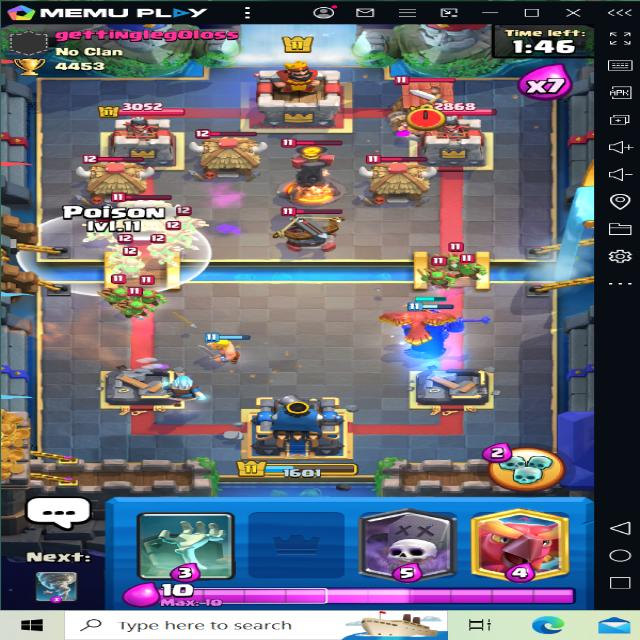Barbarianhut: (386, 73, 464, 124)
Goblinhut: (102, 188, 185, 240), (187, 126, 266, 178), (363, 152, 434, 204), (80, 155, 156, 201)
Infernotower: (278, 136, 342, 201)
Speargoblin: (427, 296, 464, 332), (115, 299, 153, 321), (102, 278, 136, 302), (438, 244, 468, 269), (171, 208, 205, 230), (457, 252, 483, 280), (118, 252, 148, 275), (132, 288, 170, 306), (142, 240, 170, 264), (420, 268, 448, 291), (163, 230, 191, 249)
Xbow: (269, 200, 348, 251)
